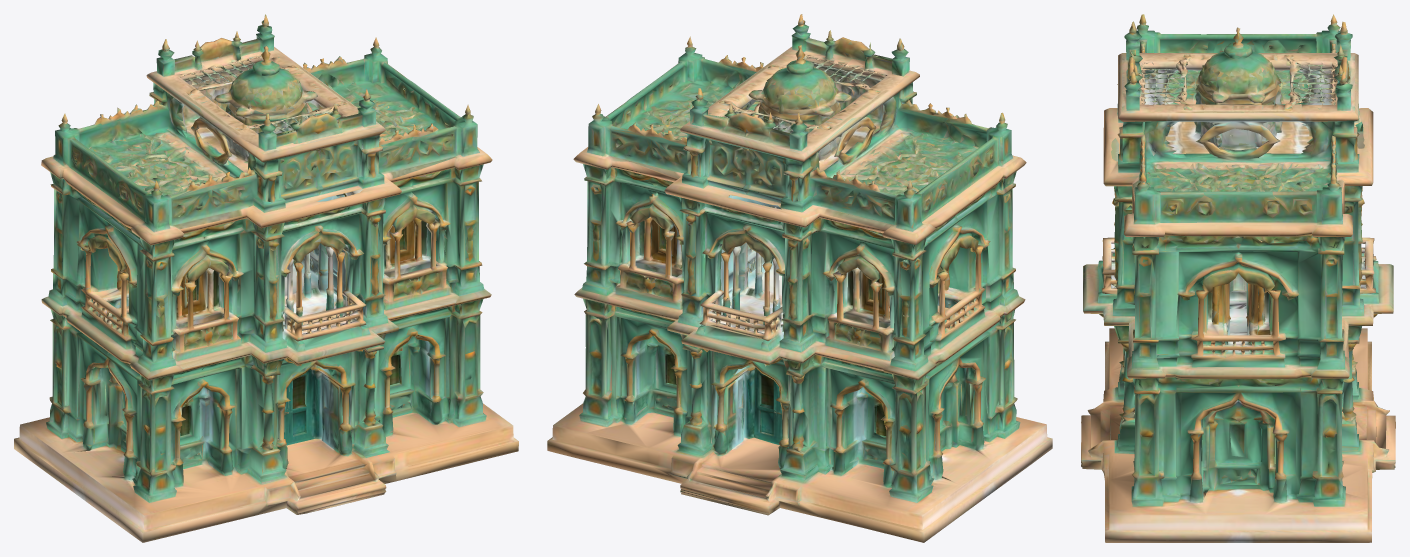
Rendered from Turquoise_Palace_of_G.glb.
3 views of the same model, side by side, from view 1: azimuth 30°, elevation 25°; view 2: azimuth 150°, elevation 25°; view 3: azimuth 270°, elevation 25° (orthographic). The views are drawn at different scales.
Parts seen in each view (by area): view 1: Turquoise_Palace_of_G; view 2: Turquoise_Palace_of_G; view 3: Turquoise_Palace_of_G.
Boxes of the visible parts, x1=… form: Turquoise_Palace_of_G: x1=14, y1=14, x2=518, y2=542; Turquoise_Palace_of_G: x1=547, y1=14, x2=1052, y2=542; Turquoise_Palace_of_G: x1=1081, y1=14, x2=1395, y2=542.
Size of the model in its own units: 1.85 by 1.9 by 1.29.
Materials: 1 (1 with a texture image).
